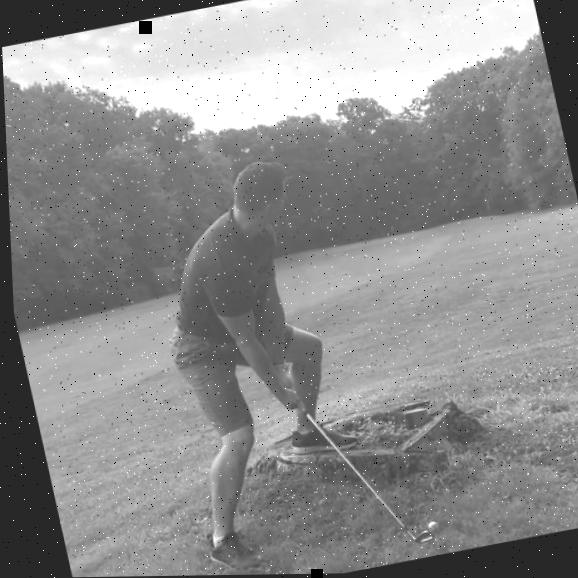ClubHead: (409, 529, 429, 544)
GolfBall: (422, 521, 435, 534)
